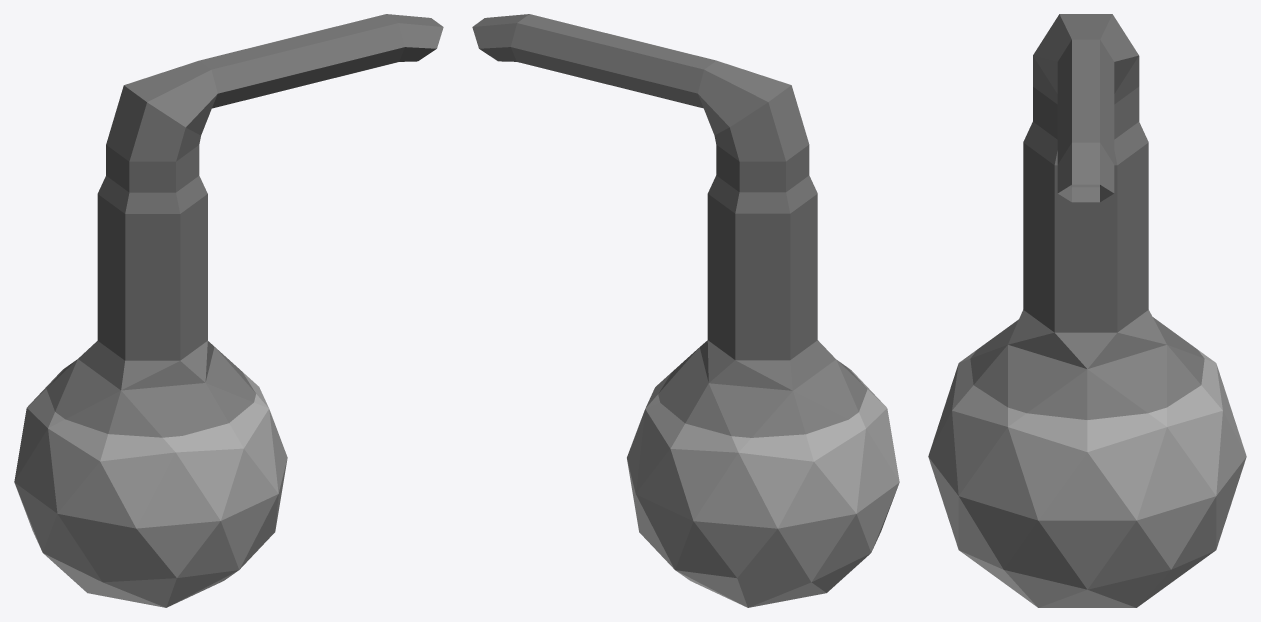
Rendered from alchemist_aparatus_749x18.gltf.
3 renders of one model, left to right at view 1: azimuth 30°, elevation 25°; view 2: azimuth 150°, elevation 25°; view 3: azimuth 270°, elevation 25°, orthographic. The views are drawn at different scales.
Visible parts, largest first — view 1: alchemist_aparatus_749x18; view 2: alchemist_aparatus_749x18; view 3: alchemist_aparatus_749x18.
Boxes of the visible parts, <box> form: alchemist_aparatus_749x18: <box>14,14,443,607</box>; alchemist_aparatus_749x18: <box>472,14,899,607</box>; alchemist_aparatus_749x18: <box>928,14,1246,607</box>.
Bounding box in the file's own units: 0.8656 × 1.07 × 0.5225.
2 materials, 2 textured.
